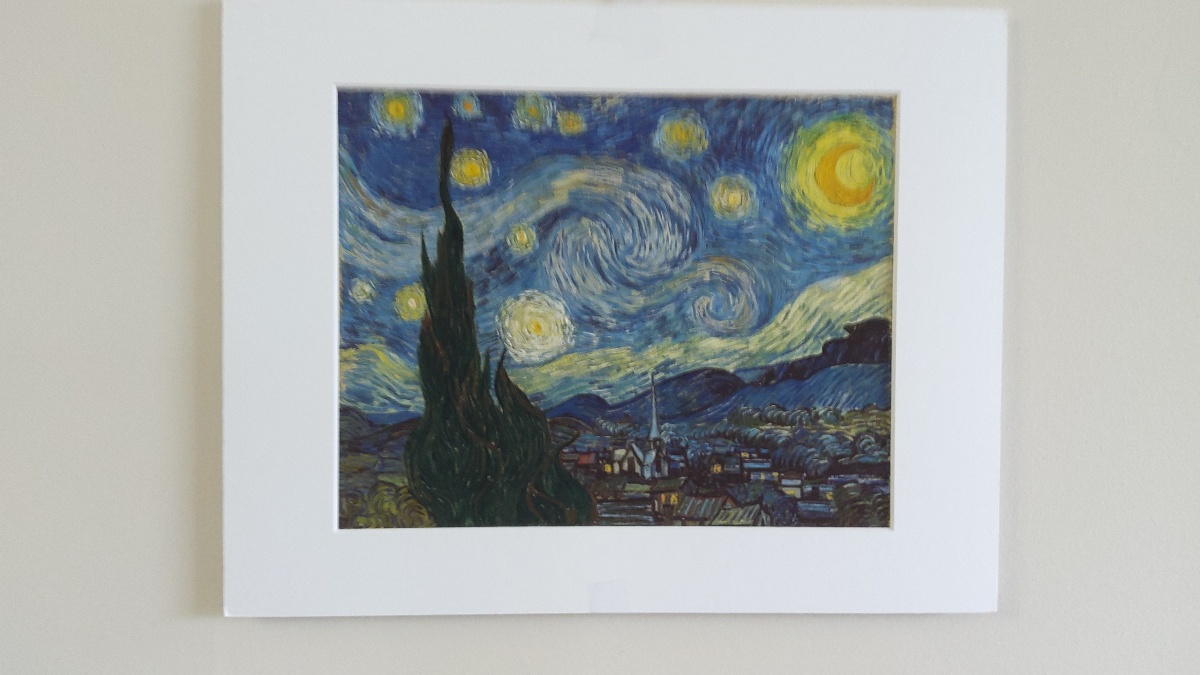painting: (327, 73, 903, 540)
